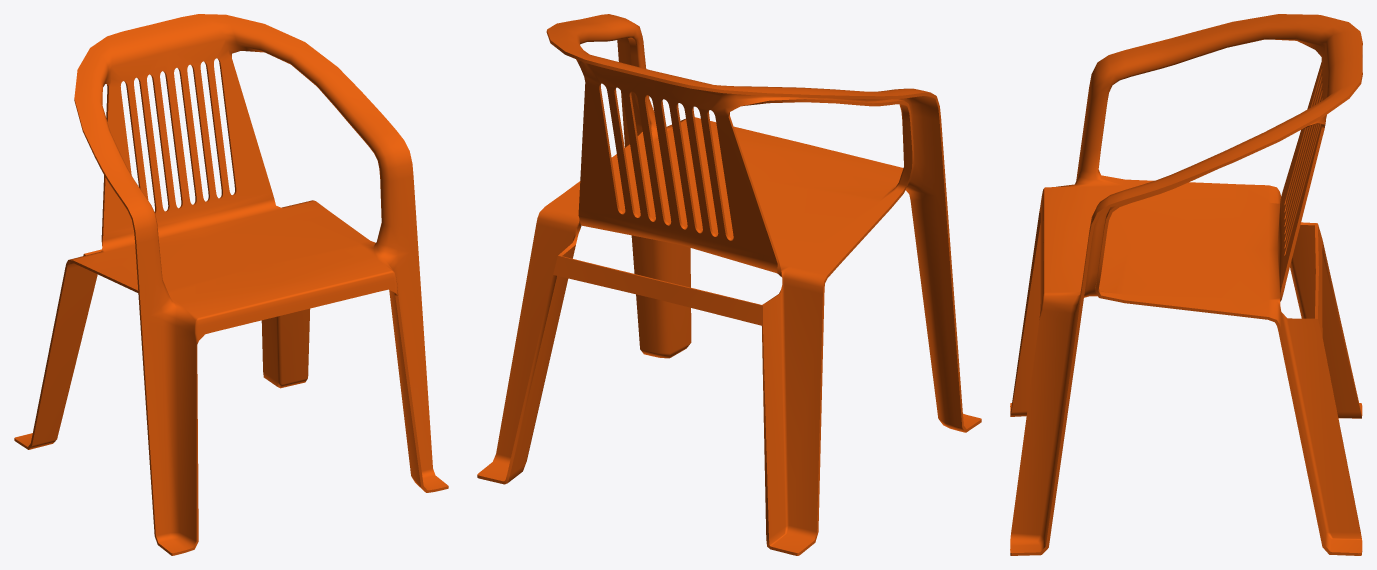
File: plastic_chair_1_low.fbx
3 views of the same model, side by side, from view 1: azimuth 30°, elevation 25°; view 2: azimuth 150°, elevation 25°; view 3: azimuth 270°, elevation 25° (orthographic). The views are drawn at different scales.
Parts seen in each view (by area): view 1: chair_l; view 2: chair_l; view 3: chair_l.
Boxes of the visible parts, x1,y1,x2,y2 form: chair_l: [14, 14, 448, 555]; chair_l: [477, 14, 981, 555]; chair_l: [1010, 14, 1362, 555].
Bounding box in the file's own units: 77.08 × 102 × 76.44.
